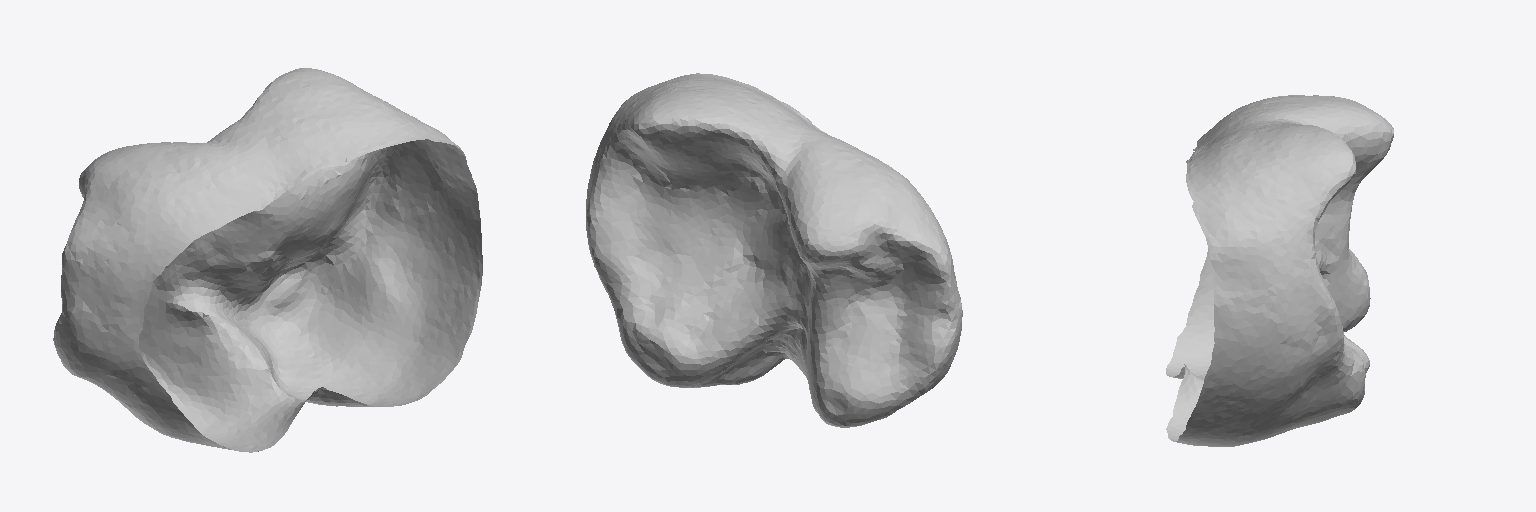
File: USNM-281741_M757_aligned.obj
3 renders of one model, left to right at view 1: azimuth 30°, elevation 25°; view 2: azimuth 150°, elevation 25°; view 3: azimuth 270°, elevation 25°, orthographic.
Visible parts, largest first — view 1: curobj_export; view 2: curobj_export; view 3: curobj_export.
Part boxes in pixels (left/top/right/bottom): curobj_export: left=53, top=68, right=482, bottom=452; curobj_export: left=586, top=73, right=962, bottom=427; curobj_export: left=1166, top=95, right=1393, bottom=446.
Size of the model in its own units: 0.0366 by 0.0272 by 0.0189.